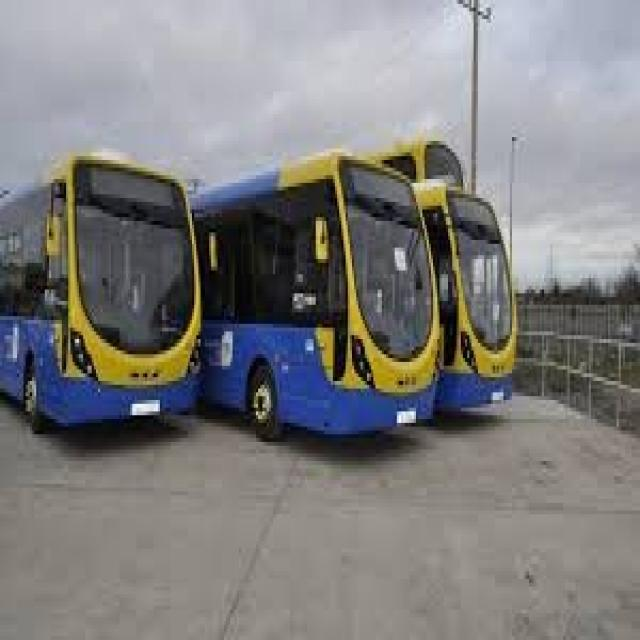bus: (199, 137, 447, 464), (0, 132, 210, 466), (420, 176, 543, 428)
